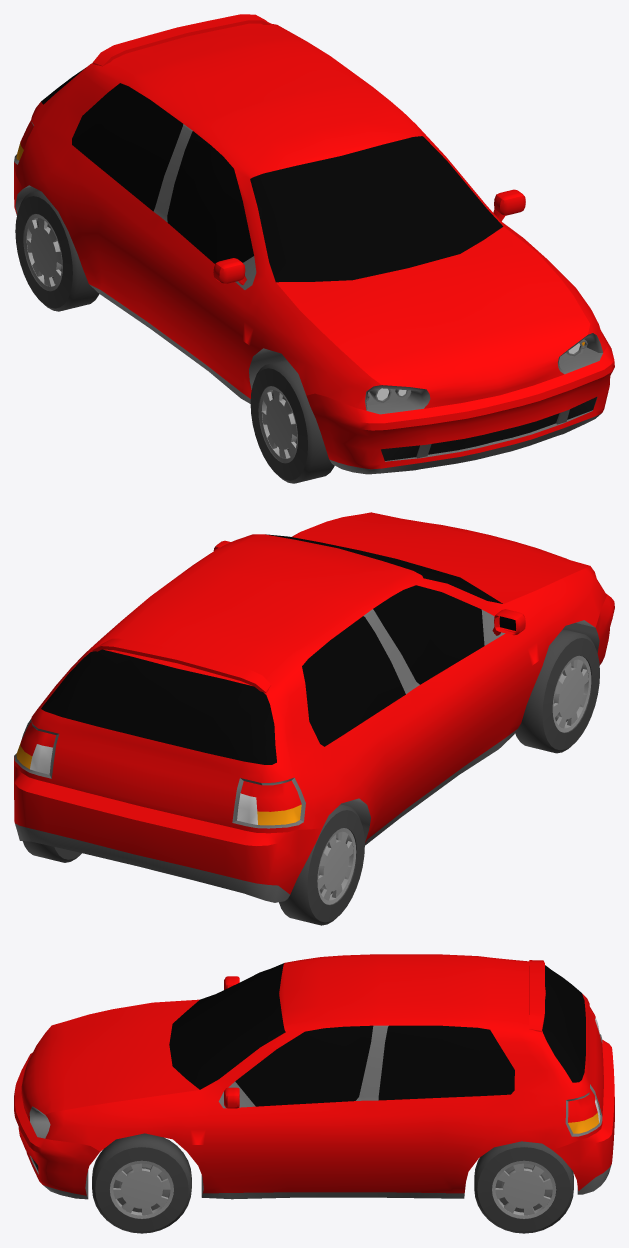
The picture shows the model from 3 angles, top to bottom: view 1: azimuth 30°, elevation 25°; view 2: azimuth 150°, elevation 25°; view 3: azimuth 270°, elevation 25°; orthographic projection. The views are drawn at different scales.
Parts seen in each view (by area): view 1: car_paint-material (×4), glass-material, wheel-material (×2), plastic-material (×3), rims-material (×2), grill-material; view 2: car_paint-material (×5), glass-material, wheel-material (×3), plastic-material (×3), rims-material (×2), light_red-material, light_white-material, light_orange-material; view 3: car_paint-material (×5), glass-material, wheel-material (×2), rims-material (×2), plastic-material (×4), light_red-material.
Part boxes in pixels (x1=…): car_paint-material (×4): x1=14, y1=14, x2=614, y2=469; glass-material: x1=41, y1=68, x2=503, y2=282; wheel-material (×2): x1=15, y1=190, x2=334, y2=483; plastic-material (×3): x1=24, y1=124, x2=602, y2=474; rims-material (×2): x1=24, y1=214, x2=297, y2=462; grill-material: x1=381, y1=397, x2=596, y2=460; car_paint-material (×5): x1=14, y1=512, x2=614, y2=894; glass-material: x1=41, y1=534, x2=502, y2=764; wheel-material (×3): x1=22, y1=629, x2=599, y2=925; plastic-material (×3): x1=14, y1=609, x2=594, y2=902; rims-material (×2): x1=317, y1=655, x2=591, y2=904; light_red-material: x1=20, y1=721, x2=301, y2=811; light_white-material: x1=30, y1=744, x2=257, y2=824; light_orange-material: x1=16, y1=742, x2=301, y2=825; car_paint-material (×5): x1=14, y1=954, x2=614, y2=1195; glass-material: x1=169, y1=963, x2=585, y2=1106; wheel-material (×2): x1=92, y1=1133, x2=573, y2=1233; rims-material (×2): x1=110, y1=1160, x2=556, y2=1218; plastic-material (×4): x1=29, y1=1025, x2=552, y2=1212; light_red-material: x1=568, y1=1006, x2=597, y2=1122.
Size of what is drawn, in the model's own units: 1.12 by 0.8334 by 2.33.
